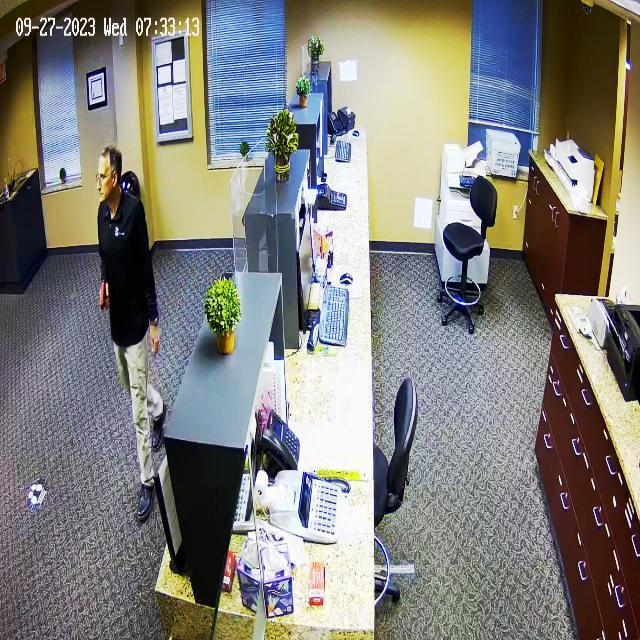Gun: (86, 273, 119, 315)
